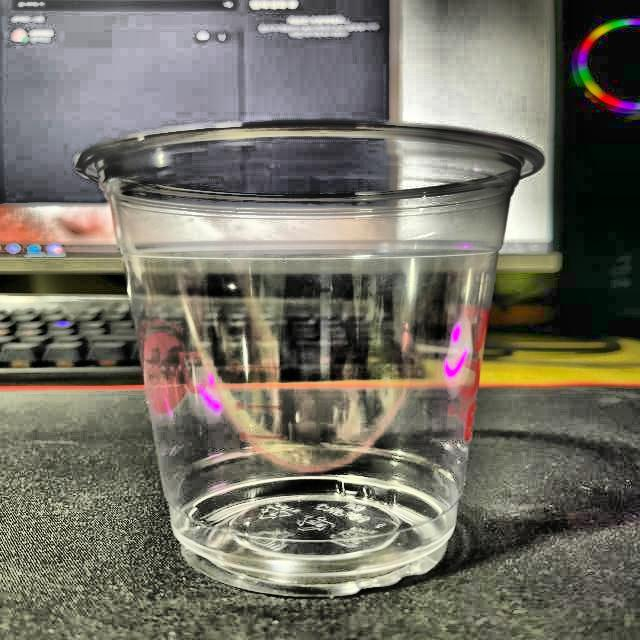plastic cup: (76, 118, 554, 600)
